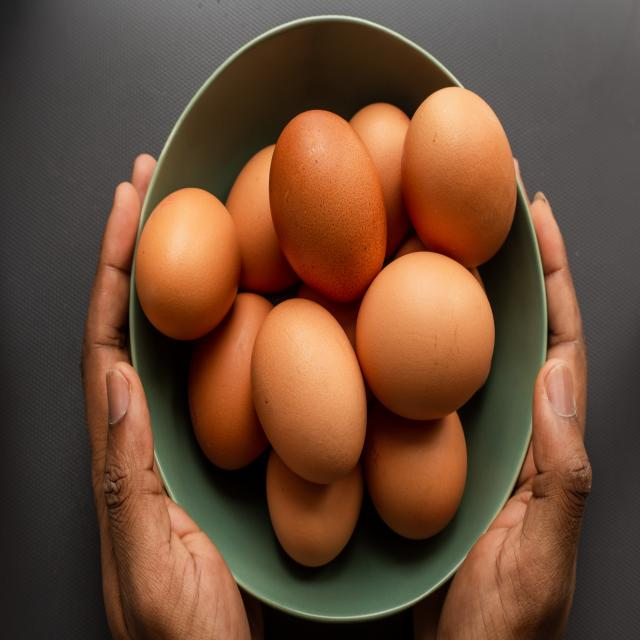egg: (261, 84, 407, 325), (234, 279, 390, 503), (345, 245, 506, 434), (389, 68, 530, 274), (128, 176, 268, 351)
